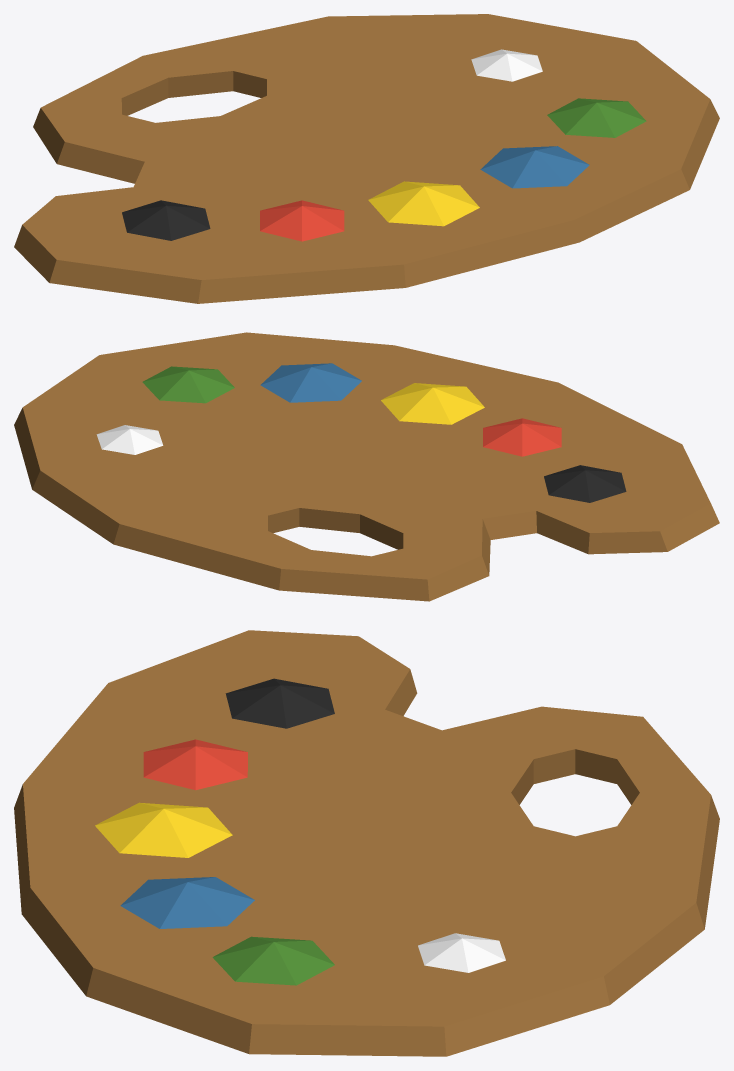
File: tools_palette-color-wooden-full.fbx
The picture shows the model from 3 angles, top to bottom: view 1: azimuth 30°, elevation 25°; view 2: azimuth 150°, elevation 25°; view 3: azimuth 270°, elevation 25°; orthographic projection. The views are drawn at different scales.
Visible parts, largest first — view 1: tools_palette_color_wooden_full; view 2: tools_palette_color_wooden_full; view 3: tools_palette_color_wooden_full.
Part boxes in pixels (left/top/right/bottom): tools_palette_color_wooden_full: left=14, top=14, right=719, bottom=303; tools_palette_color_wooden_full: left=14, top=332, right=719, bottom=601; tools_palette_color_wooden_full: left=14, top=630, right=719, bottom=1056.
Size of the model in its own units: 200 by 10.68 by 147.
